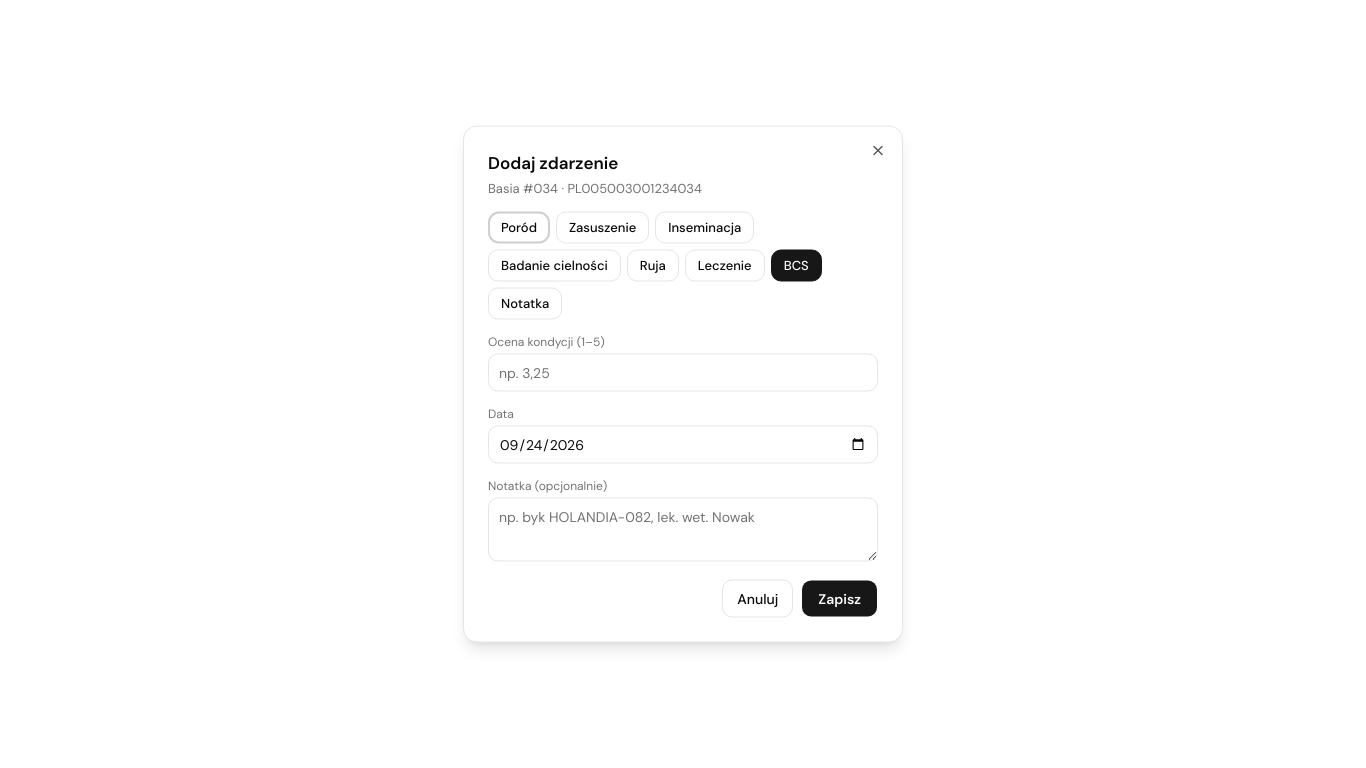
AddEventDialog › nie wysyła formularza z błędną oceną BCS
Type "9" into the field labelled "Ocena kondycji (1–5)" at x=683, y=372, box x1=488 y1=354 x2=878 y2=392
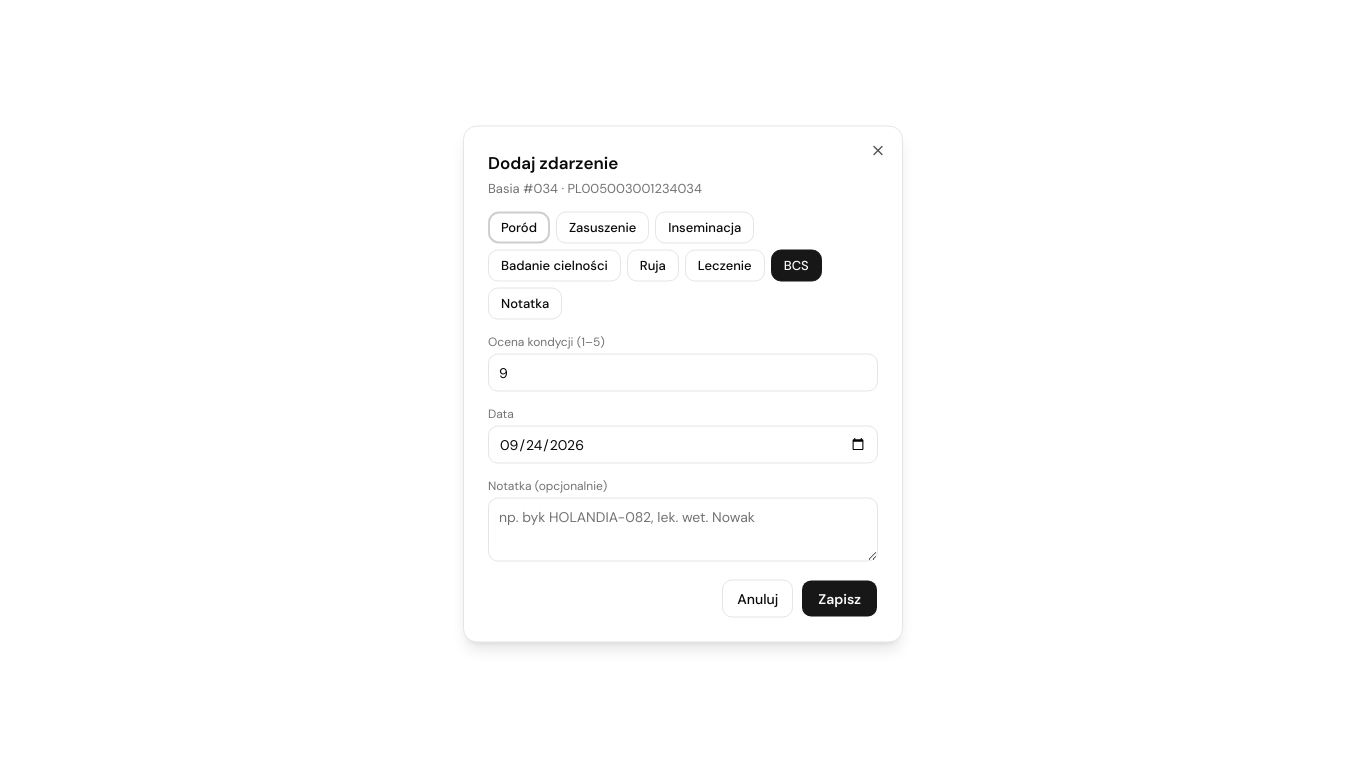
Click the button "Zapisz" at x=840, y=598, box x1=801 y1=580 x2=878 y2=618
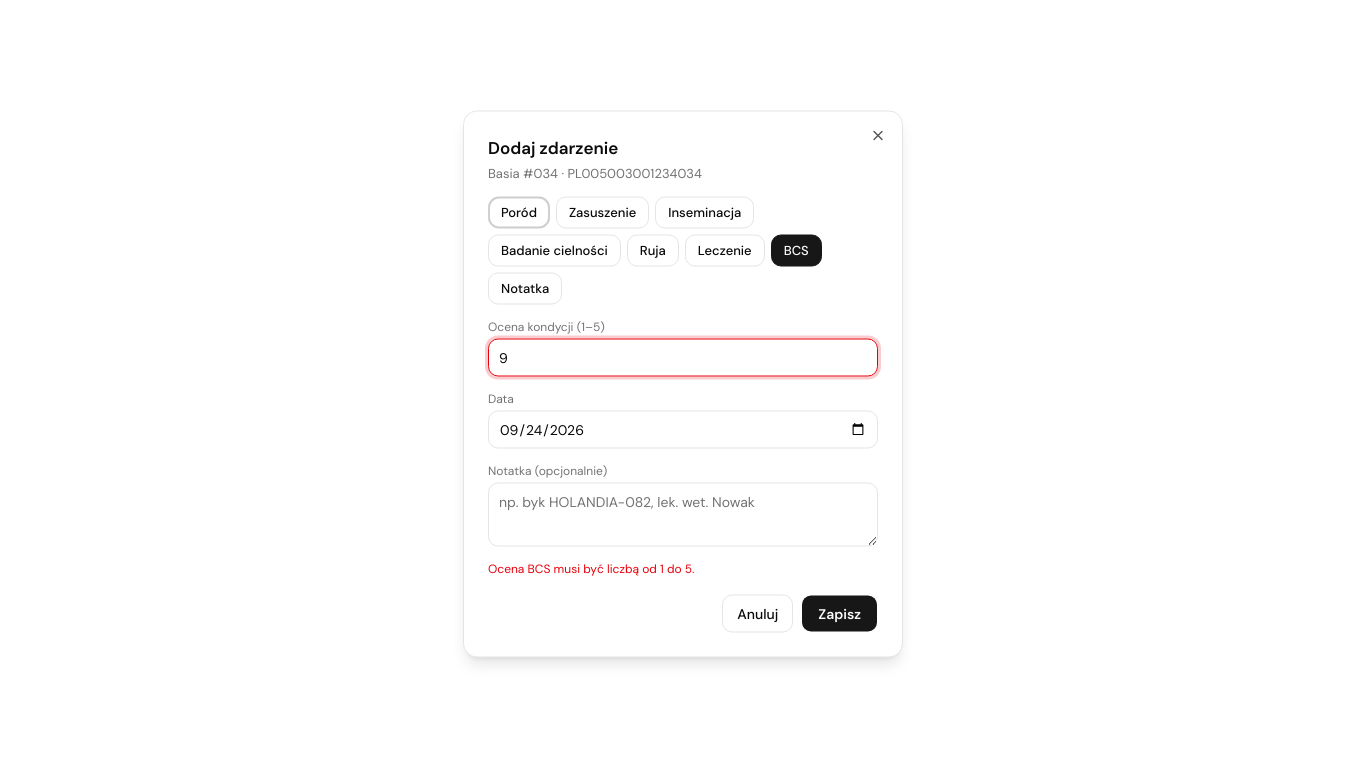
Expected: the message shows "od 1 do 5", x1=488 y1=560 x2=694 y2=576
